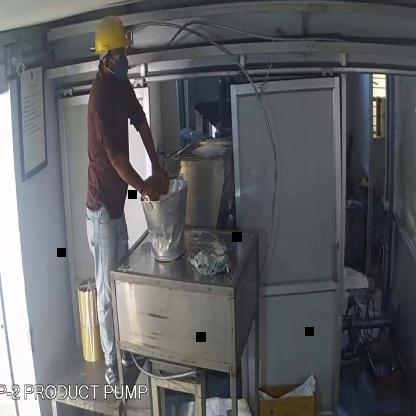helmet: (93, 11, 133, 59)
